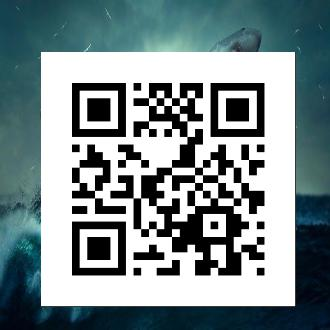qr_code: (41, 52, 295, 306)
